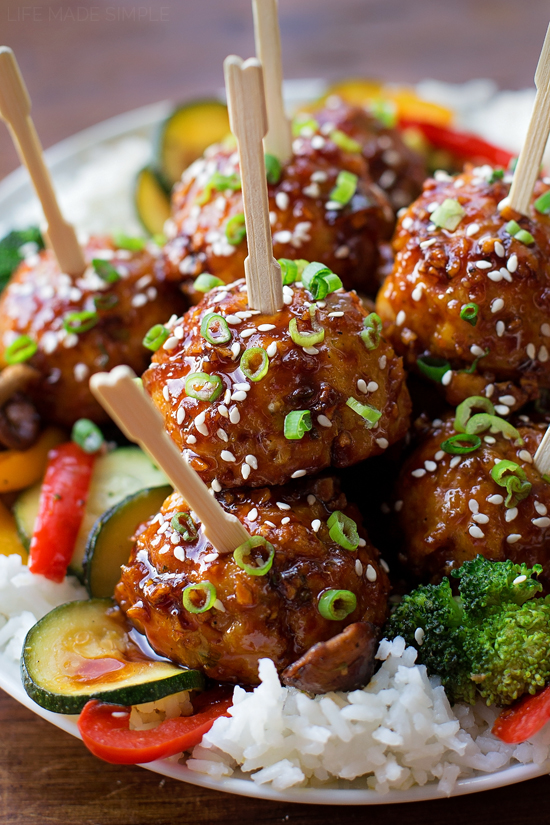meatballs: (16, 136, 543, 625)
plain rice: (230, 640, 489, 800)
